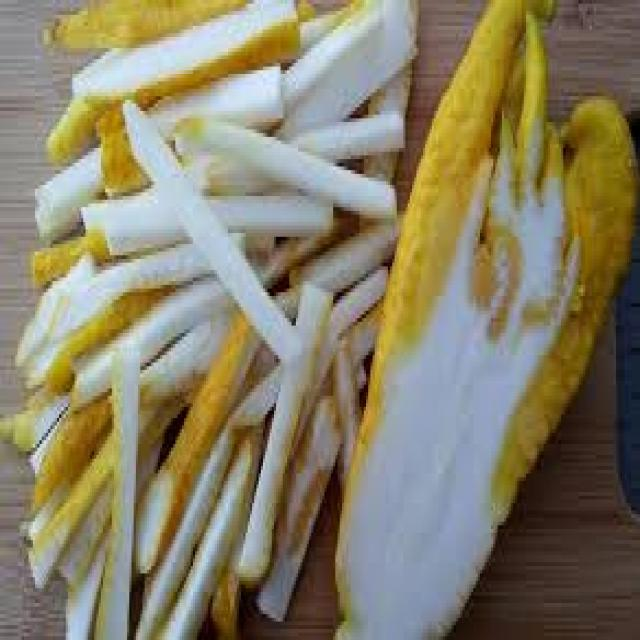PhatThu: (5, 1, 637, 629)
